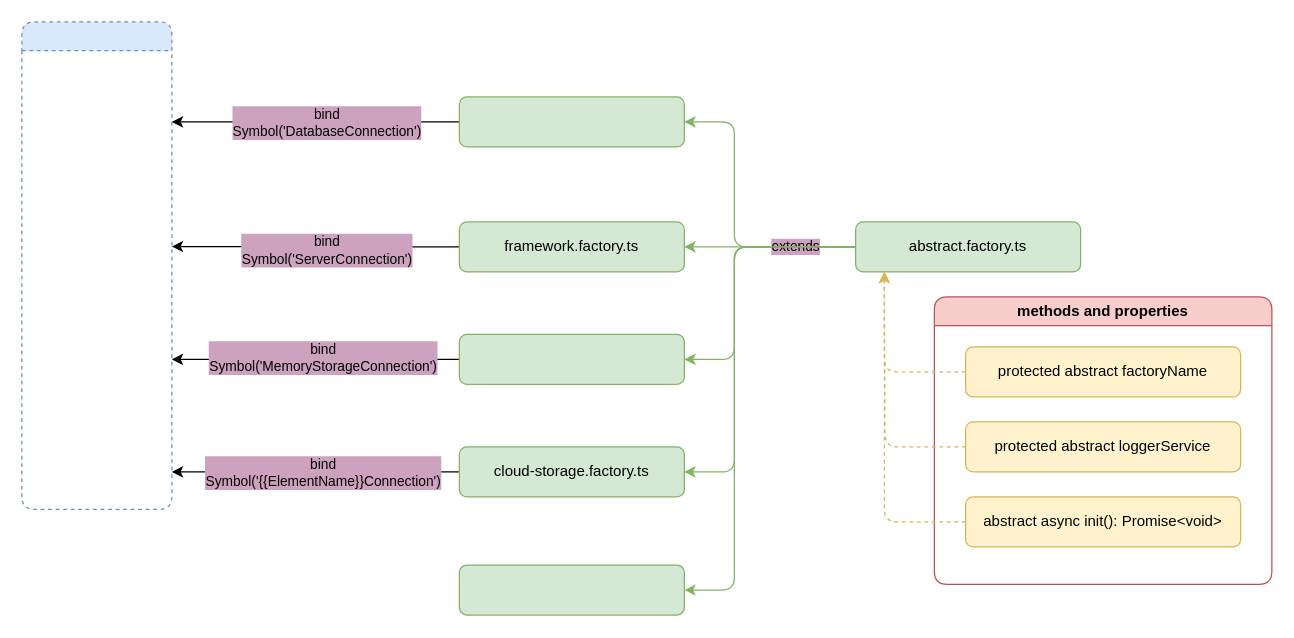
Image size: 1294x638. Some labels were removed from this diagram. Each missing label, with the box of its shape:
database.factory.ts: (458, 96, 684, 147)
ioc.core.ts: (21, 21, 172, 509)
transport.factory.ts: (458, 333, 684, 384)
{{factory-name}}.factory.ts: (458, 564, 684, 615)
